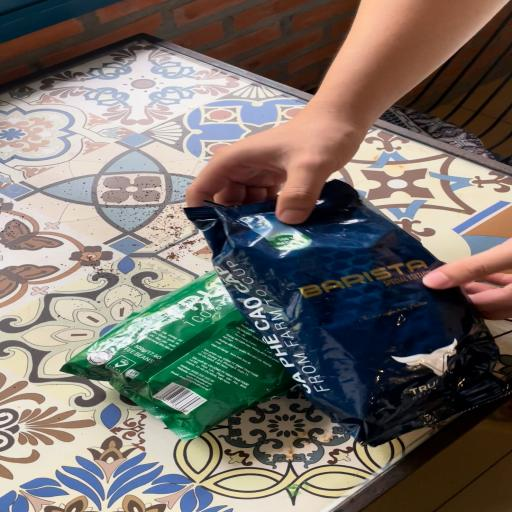cafe_hat: (185, 180, 509, 446)
cafe_xay: (61, 271, 293, 440)
